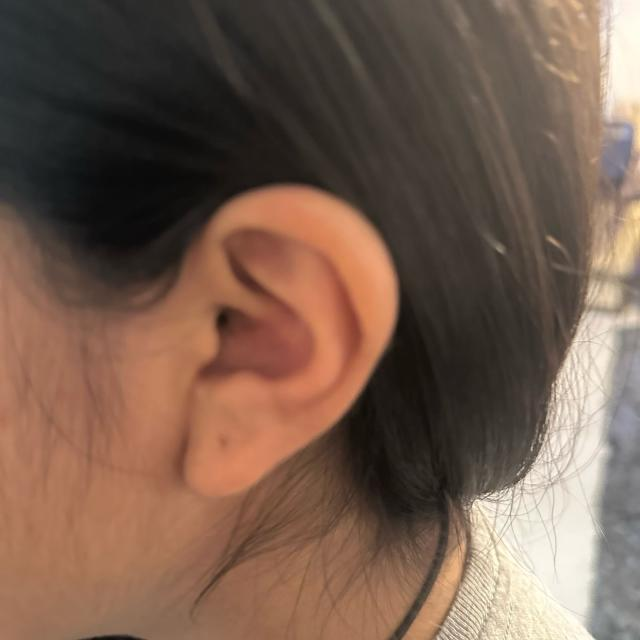ear: (182, 186, 398, 497)
